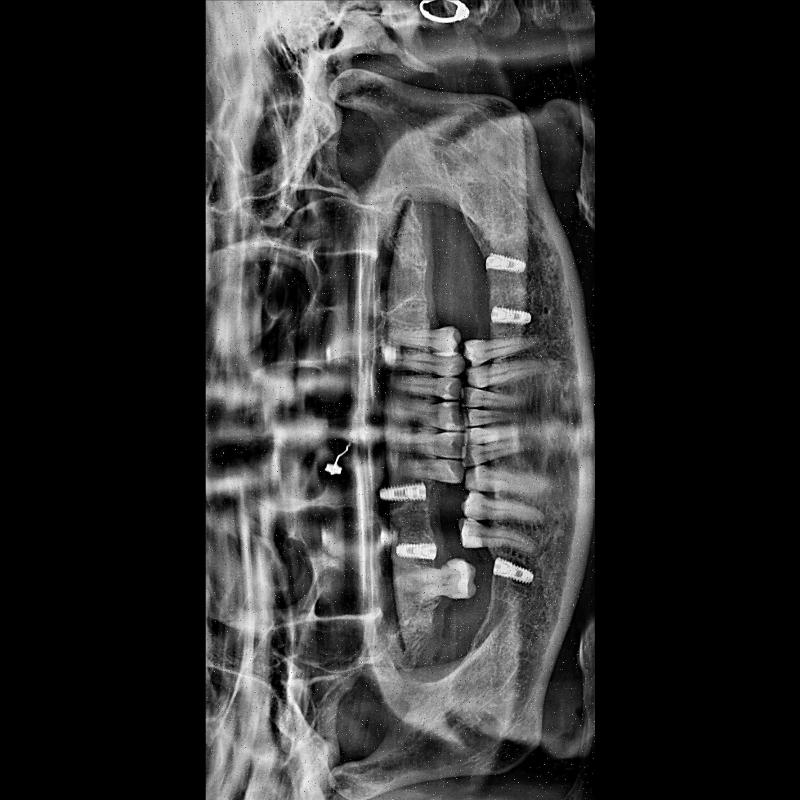osstem: (389, 534, 445, 566), (494, 556, 536, 590), (491, 300, 535, 328), (487, 250, 527, 280), (380, 479, 426, 505)
